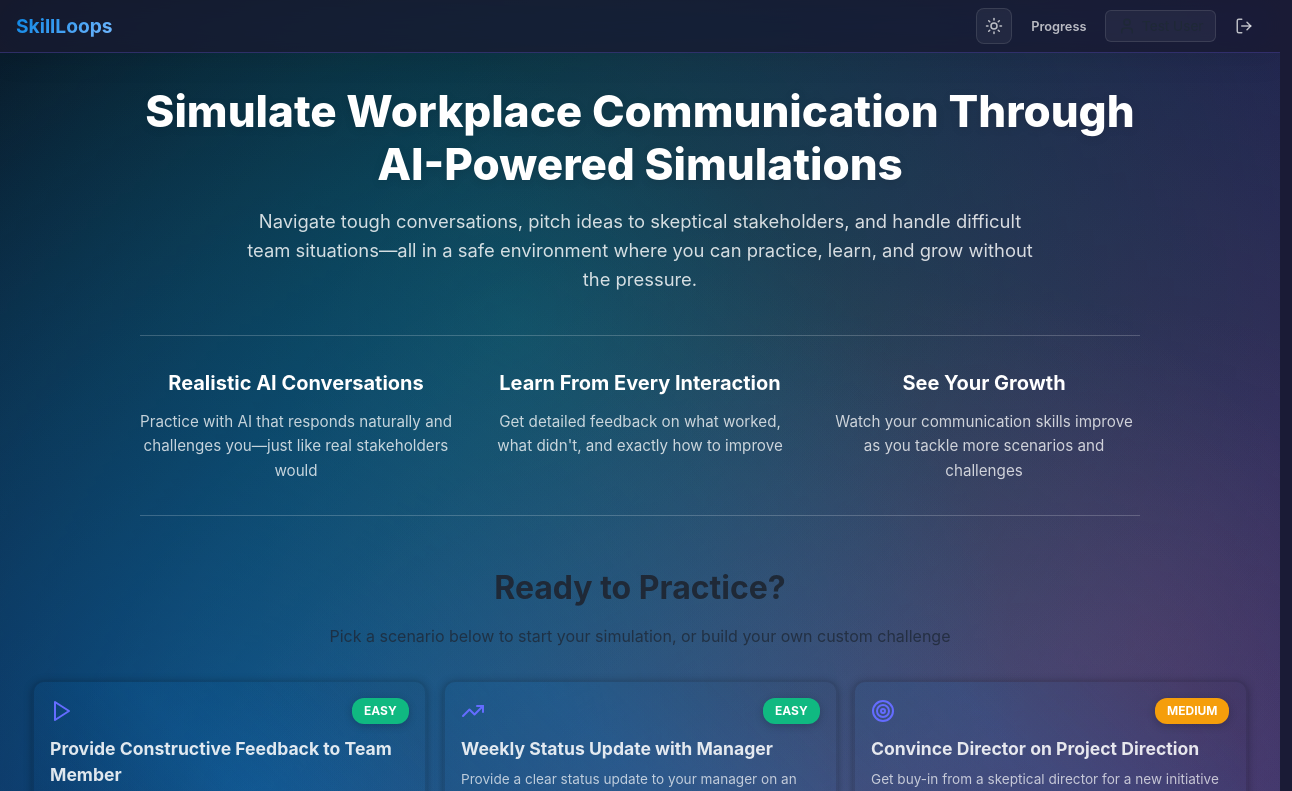
Test case: Progress Tracking Integration Tests › should allow starting new scenario from progress dashboard
Check: the heading "Ready to Practice?" is shown, box [494,568,786,607]
Click the button "Progress": coordinates (1059, 26) [1020,13,1098,39]
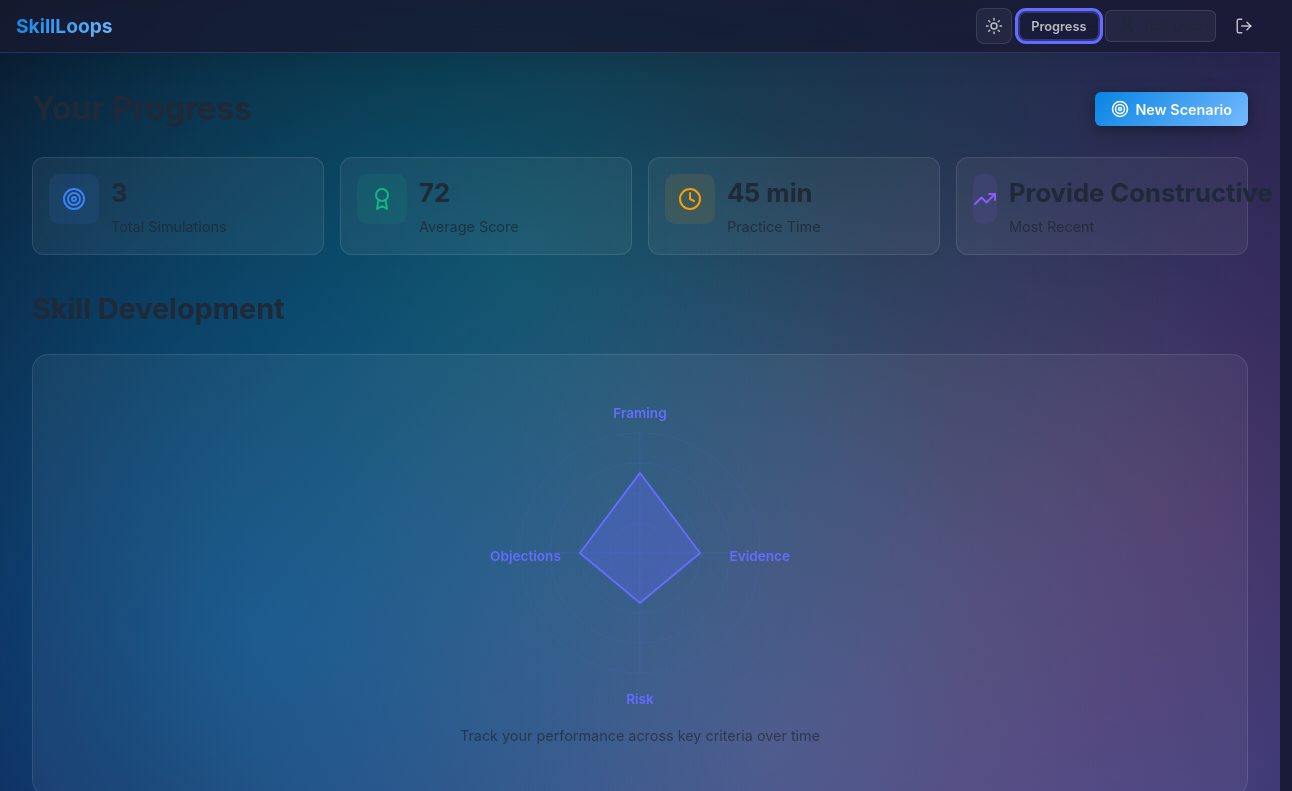
Check: the heading "Your Progress" is shown, box [32,85,252,133]
// Click new scenario button
Click the button "New Scenario": coordinates (1172, 109) [1095,92,1248,126]
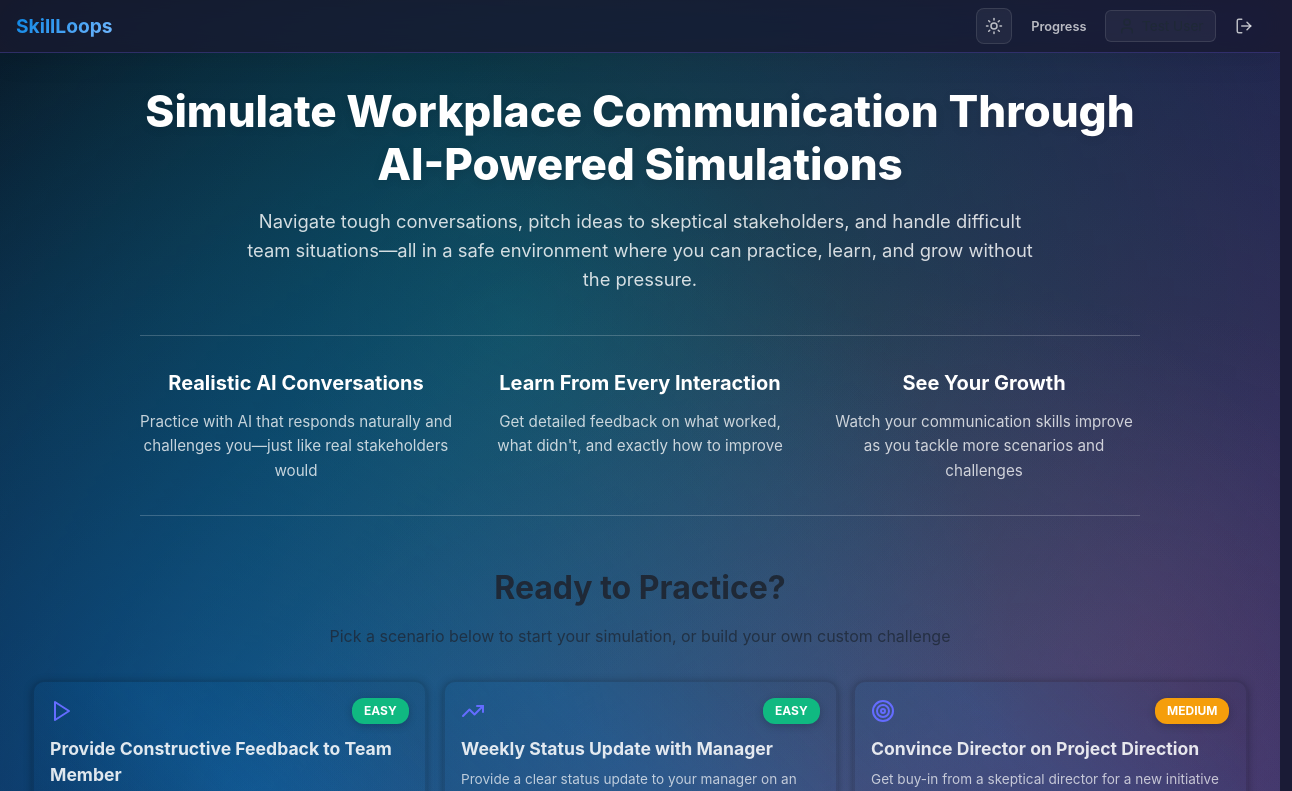
Check: the heading "Ready to Practice?" is shown, box [494,568,786,607]
